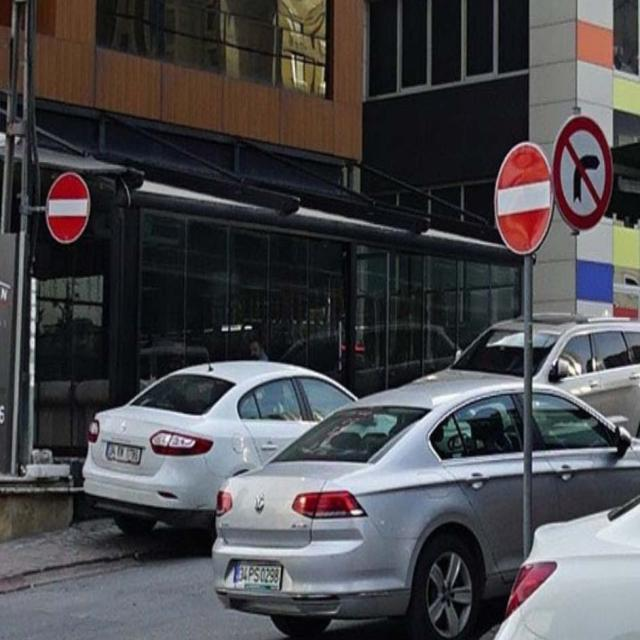girisyok: (494, 142, 553, 255), (45, 173, 91, 244)
sagadonulmez: (553, 116, 613, 230)
